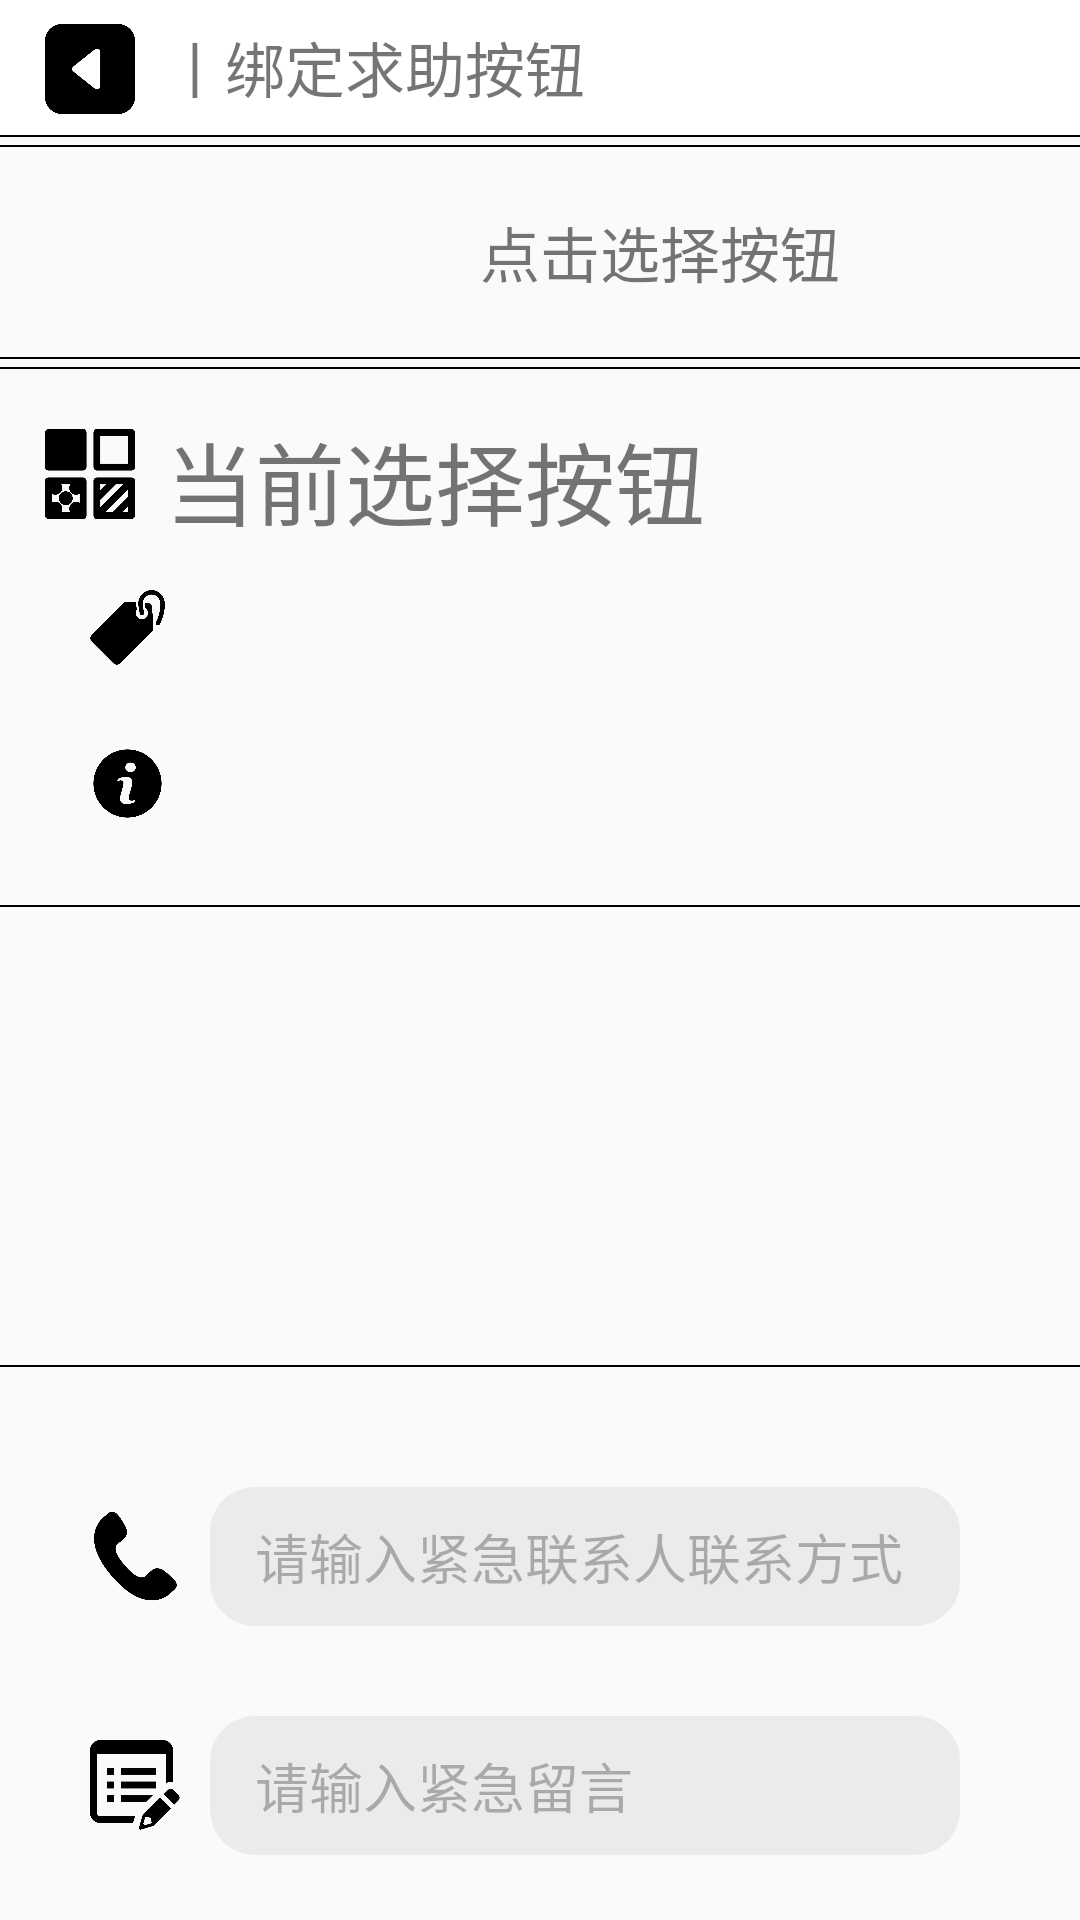

Named icons in this screenshot (1080 × 1920) and their centers, point (x, y):
back: point (90, 69)
edit talk: point (135, 1785)
info: point (127, 783)
tag: point (127, 627)
